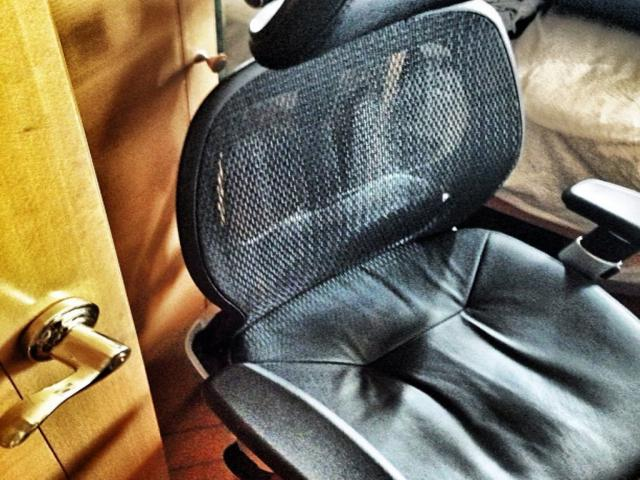Door-handle: (0, 294, 136, 448)
